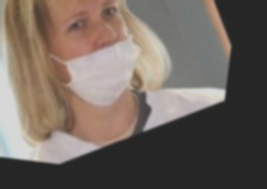mask_weared_incorrect: (35, 1, 141, 108)
